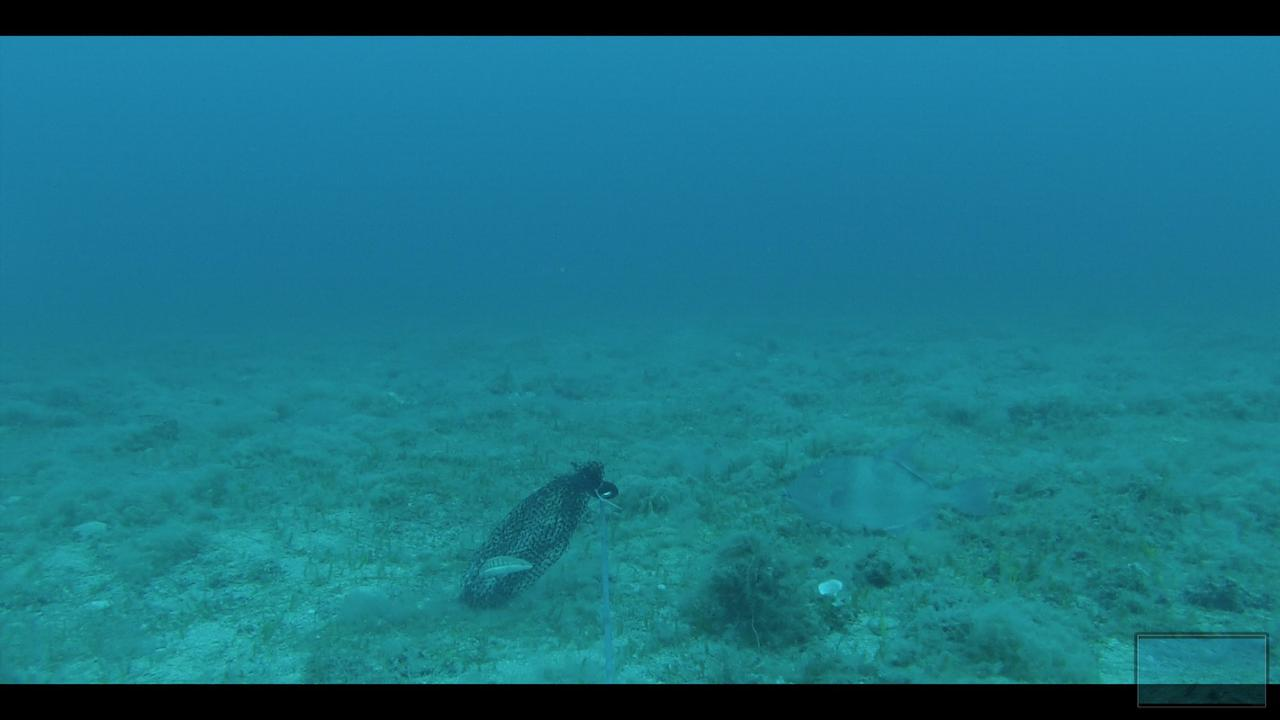balistes: (775, 431, 1016, 549)
